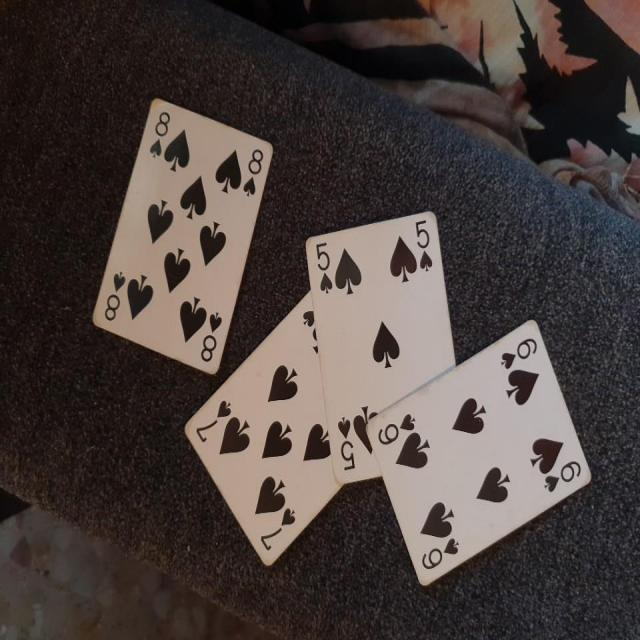5 Spades: (302, 202, 473, 492)
6 Spades: (363, 307, 604, 606)
7 Spades: (179, 290, 389, 578)
8 Spades: (89, 83, 265, 375)
